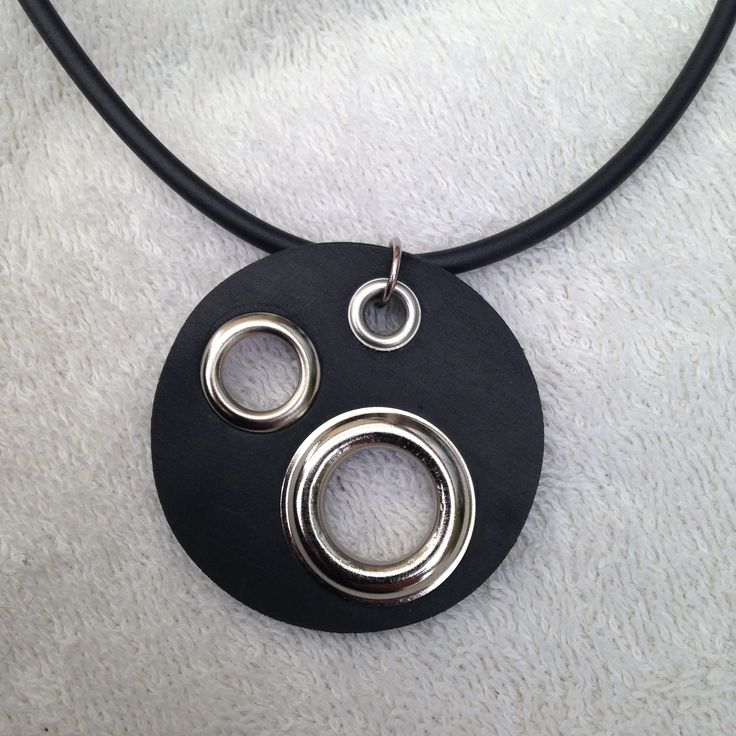cuero: (149, 239, 544, 635)
